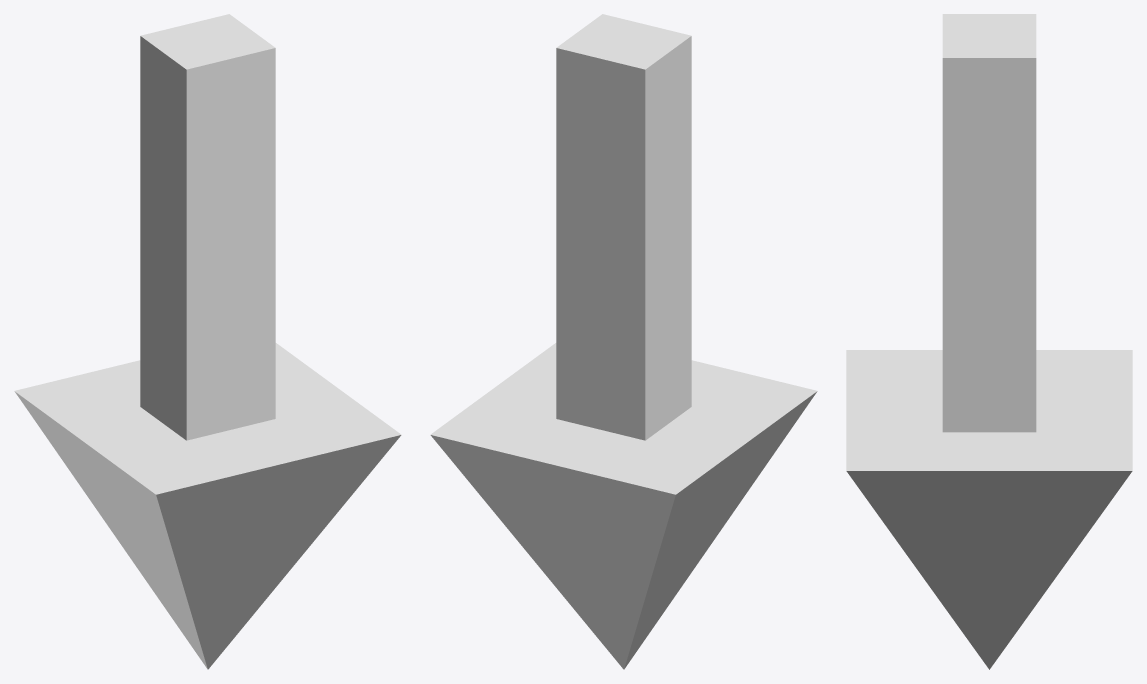
File: arrow.glb
3 views of the same model, side by side, from view 1: azimuth 30°, elevation 25°; view 2: azimuth 150°, elevation 25°; view 3: azimuth 270°, elevation 25° (orthographic).
Parts seen in each view (by area): view 1: 立方体; view 2: 立方体; view 3: 立方体.
Part boxes in pixels (x1=…): 立方体: x1=14, y1=14, x2=401, y2=669; 立方体: x1=430, y1=14, x2=817, y2=669; 立方体: x1=846, y1=14, x2=1132, y2=669.
Bounding box in the file's own units: 0.8566 × 2.09 × 0.8566.
Materials: 1 (1 with a texture image).
